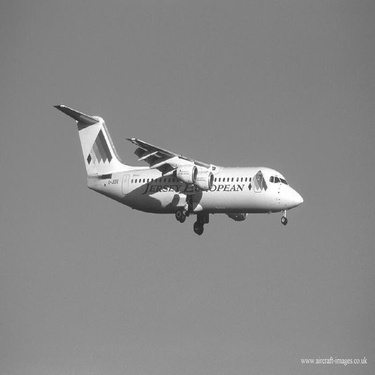airplane: (45, 92, 312, 237)
